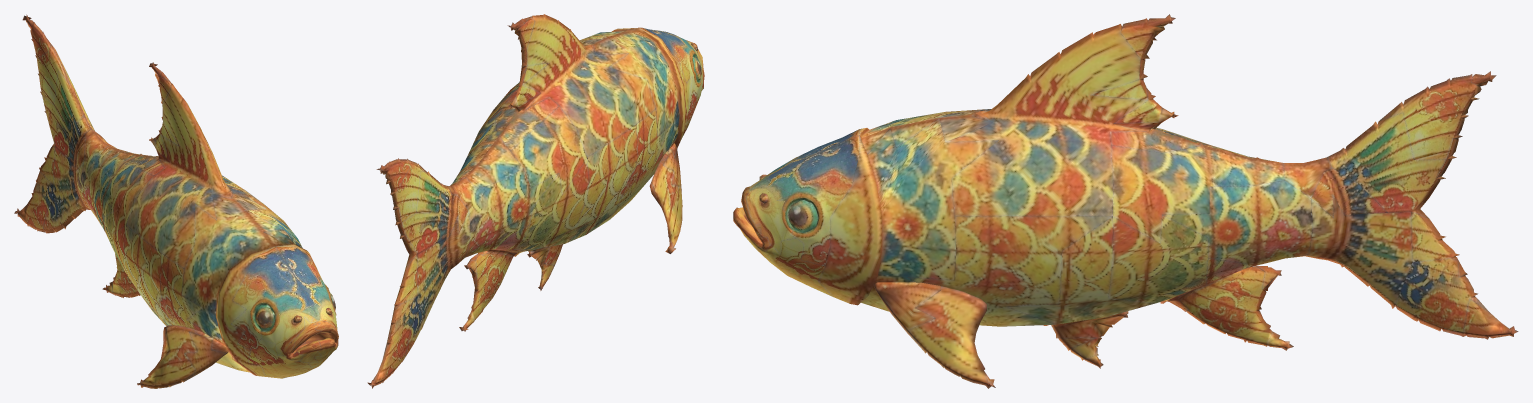
The model's file is 鲮鱼鱼灯.glb.
3 views of the same model, side by side, from view 1: azimuth 30°, elevation 25°; view 2: azimuth 150°, elevation 25°; view 3: azimuth 270°, elevation 25° (orthographic). The views are drawn at different scales.
Parts seen in each view (by area): view 1: tripo_node_7ffbff35-3905-4fe6-bee0-baaf05f750ae; view 2: tripo_node_7ffbff35-3905-4fe6-bee0-baaf05f750ae; view 3: tripo_node_7ffbff35-3905-4fe6-bee0-baaf05f750ae.
Part boxes in pixels (box(x1,y1,x2,y2)): tripo_node_7ffbff35-3905-4fe6-bee0-baaf05f750ae: box(14, 14, 338, 388); tripo_node_7ffbff35-3905-4fe6-bee0-baaf05f750ae: box(367, 14, 704, 388); tripo_node_7ffbff35-3905-4fe6-bee0-baaf05f750ae: box(733, 14, 1518, 388).
Bounding box in the file's own units: 0.3262 × 0.498 × 0.998.
1 material, 1 textured.
